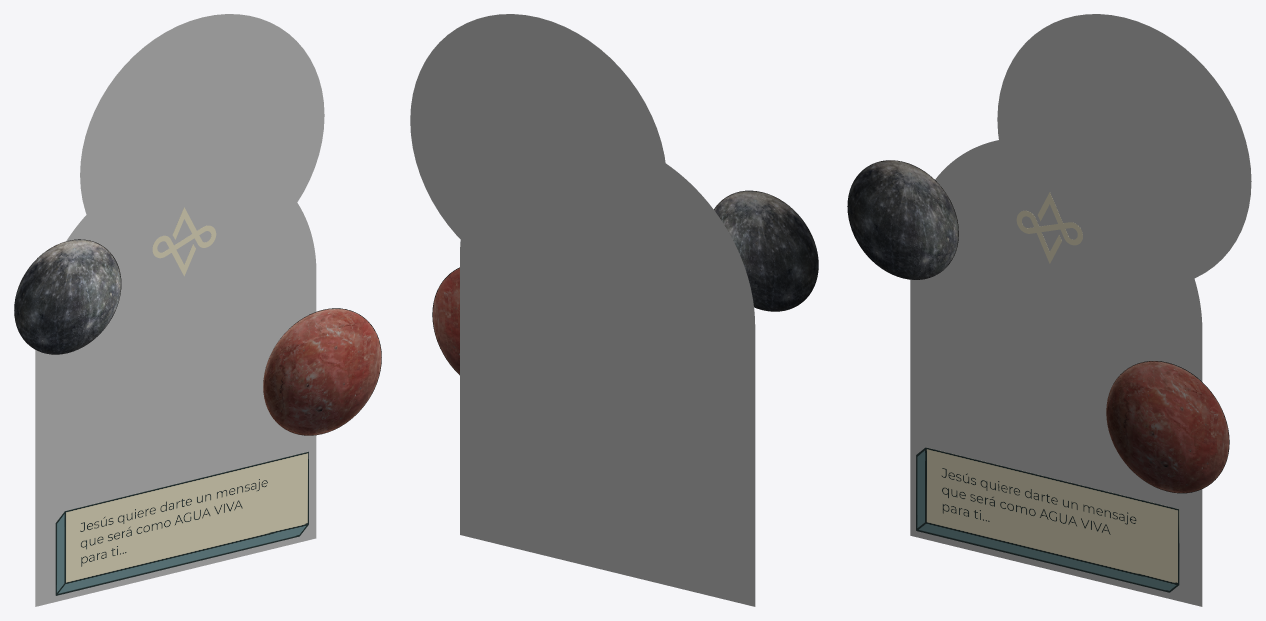
The picture shows the model from 3 angles, left to right: view 1: azimuth 30°, elevation 25°; view 2: azimuth 150°, elevation 25°; view 3: azimuth 330°, elevation 25°; orthographic projection. The views are drawn at different scales.
Visible parts, largest first — view 1: Rectangle, Ellipse 3, Spline.001, Ellipse, Ellipse 2, Spline; view 2: Rectangle, Ellipse 3, Ellipse 2, Ellipse; view 3: Rectangle, Ellipse 3, Spline.001, Ellipse, Ellipse 2, Spline.
Boxes of the visible parts, <box> form: Rectangle: <box>35,155,316,606</box>; Ellipse 3: <box>80,14,324,214</box>; Spline.001: <box>55,451,308,595</box>; Ellipse: <box>263,308,381,435</box>; Ellipse 2: <box>14,239,121,354</box>; Spline: <box>152,207,216,276</box>; Rectangle: <box>460,163,755,606</box>; Ellipse 3: <box>410,14,667,289</box>; Ellipse 2: <box>714,190,818,311</box>; Ellipse: <box>432,267,459,375</box>; Rectangle: <box>910,137,1202,606</box>; Ellipse 3: <box>997,14,1251,278</box>; Spline.001: <box>916,447,1179,592</box>; Ellipse: <box>1106,361,1229,493</box>; Ellipse 2: <box>847,160,958,279</box>; Spline: <box>1016,192,1082,263</box>.
Size of the model in its own units: 43.35 by 59.69 by 8.
